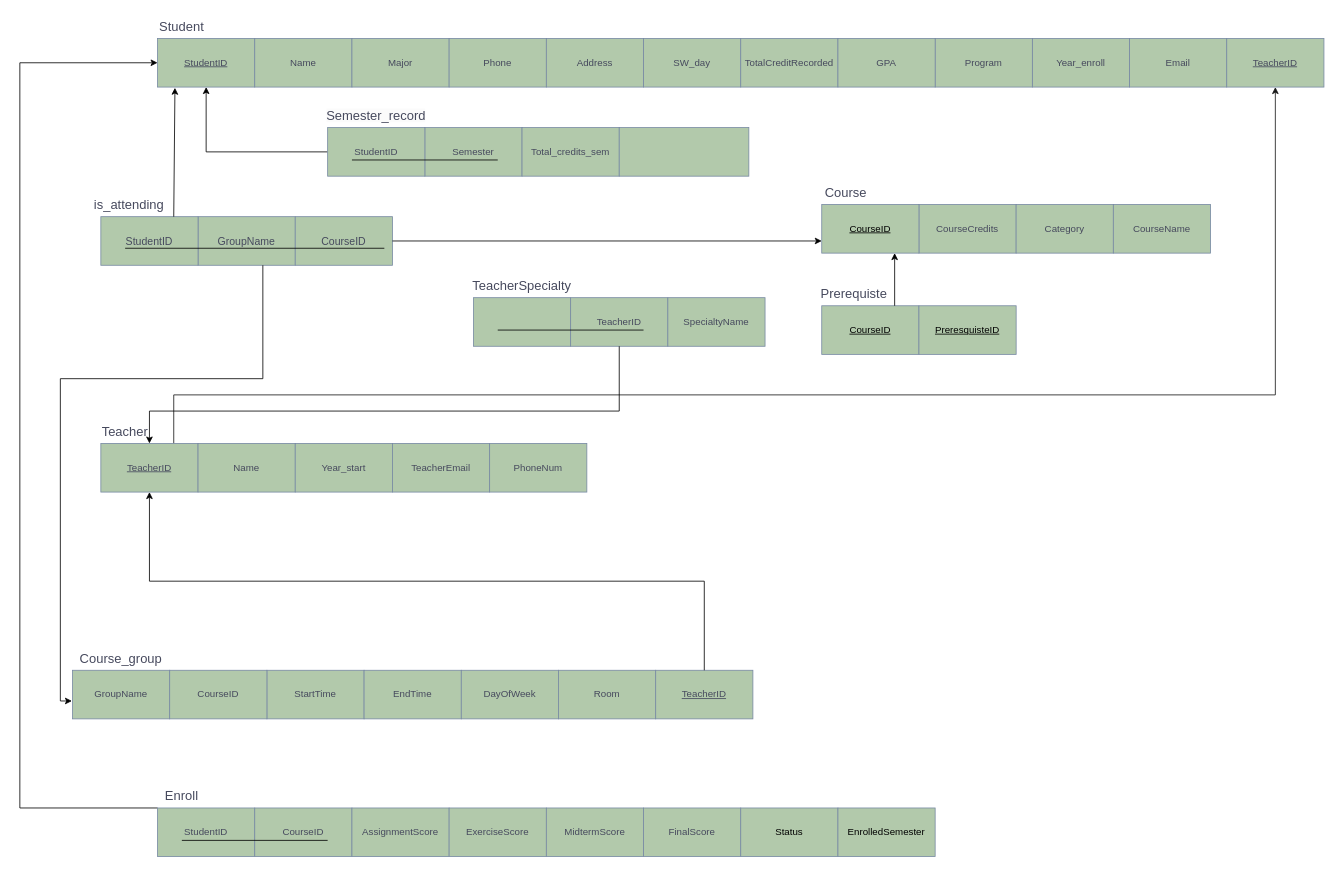
The diagram is 1338 pixels wide and 871 high, and some of its shapes have lost their labels. Each missing label, with the box of its shape:
Semester_averageGrade: (618, 127, 749, 176)
SpecialtyID: (473, 297, 571, 346)
